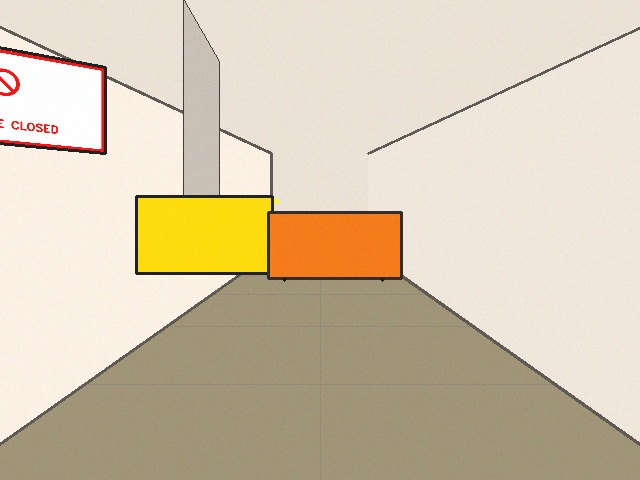cart: (268, 212, 401, 278)
directional_sign: (0, 25, 105, 153)
forklift: (136, 196, 279, 273)
